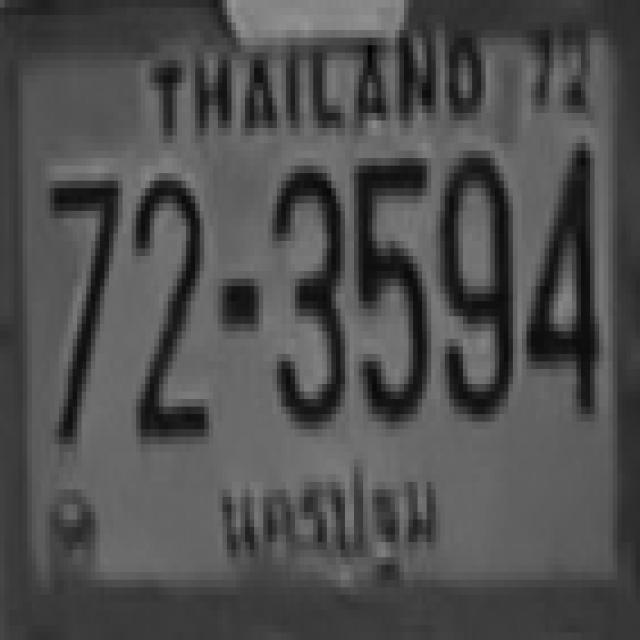2: (132, 169, 204, 433)
3: (268, 158, 340, 422)
4: (522, 136, 595, 407)
5: (350, 151, 422, 414)
7: (45, 173, 118, 437)
9: (436, 143, 508, 414)
NakhonPathom: (204, 451, 456, 599)
